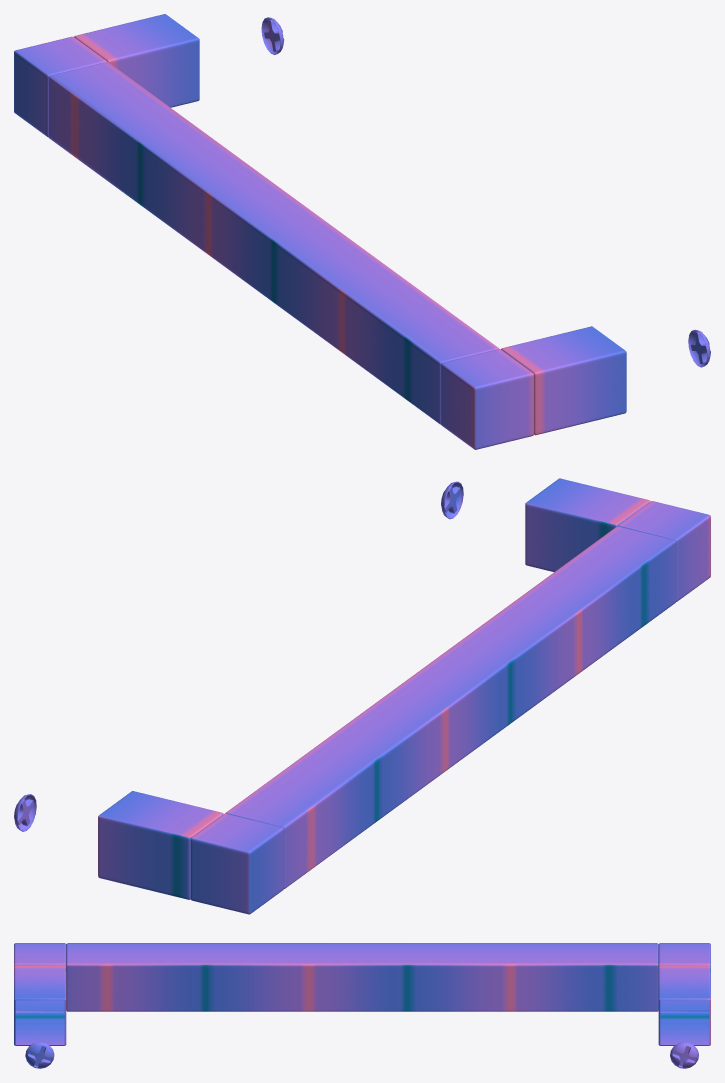
Rendered from SM_Kitchen_Handle.fbx.
The picture shows the model from 3 angles, top to bottom: view 1: azimuth 30°, elevation 25°; view 2: azimuth 150°, elevation 25°; view 3: azimuth 270°, elevation 25°; orthographic projection. The views are drawn at different scales.
Parts seen in each view (by area): view 1: SM_Kitchen_Handle; view 2: SM_Kitchen_Handle; view 3: SM_Kitchen_Handle.
Part boxes in pixels (bbox=[...]): SM_Kitchen_Handle: bbox=[14, 14, 710, 449]; SM_Kitchen_Handle: bbox=[14, 478, 710, 914]; SM_Kitchen_Handle: bbox=[14, 943, 710, 1068].
Bounding box in the file's own units: 5.38 × 1.3 × 17.3.
Materials: 1 (1 with a texture image).
